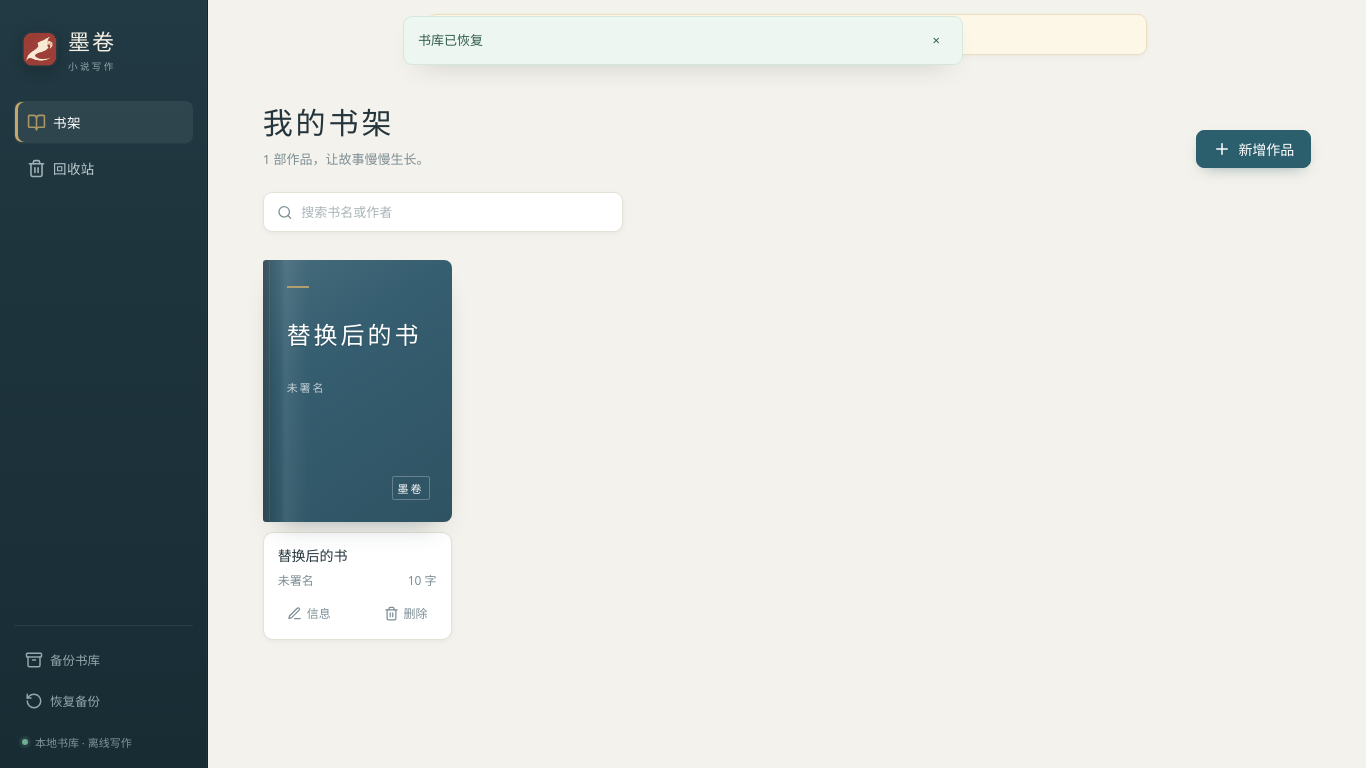
Test: discards a same-batch old chapter publication before the replacement library renders
Earlier steps of the test are not shown.
Click the button with aria-label "打开 替换后的书": (357, 391) [263,260,452,522]
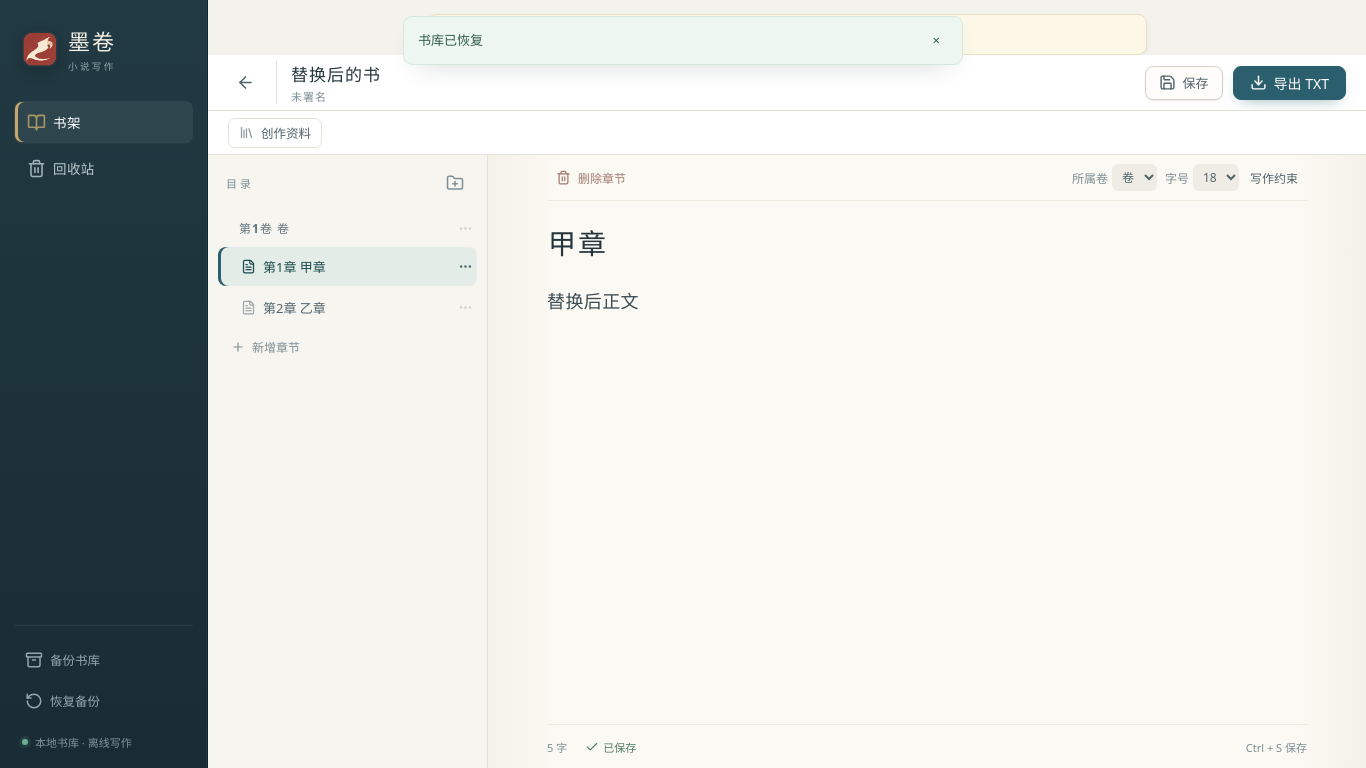
Result: the text box named "章节正文" holds "替换后正文" at [547,275,1307,724]
